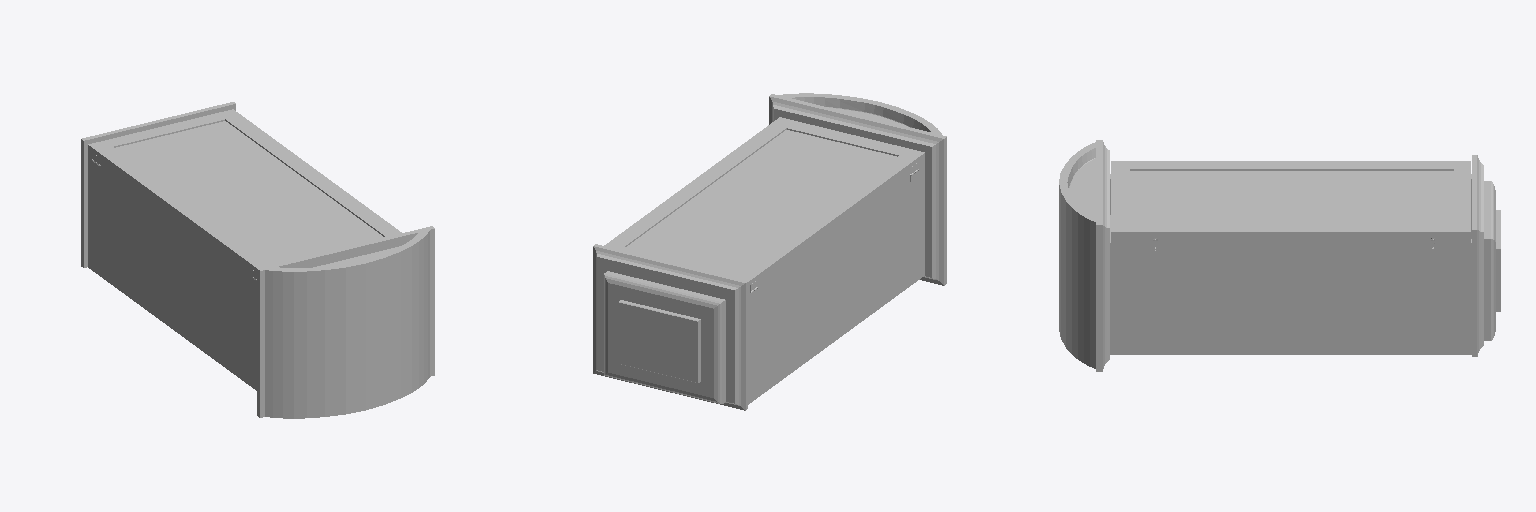
The model's file is orologio-horror.obj.
3 views of the same model, side by side, from view 1: azimuth 30°, elevation 25°; view 2: azimuth 150°, elevation 25°; view 3: azimuth 270°, elevation 25° (orthographic).
Visible parts, largest first — view 1: defaultMaterial9, defaultMaterial10, defaultMaterial5, defaultMaterial4, defaultMaterial6, defaultMaterial7; view 2: defaultMaterial10, defaultMaterial5, defaultMaterial8, defaultMaterial4, defaultMaterial7, defaultMaterial6, defaultMaterial9; view 3: defaultMaterial10, defaultMaterial5, defaultMaterial4, defaultMaterial9, defaultMaterial6, defaultMaterial8, defaultMaterial7.
Boxes of the visible parts, box(x1,y1,x2,y2) form: defaultMaterial9: box(265, 230, 429, 418); defaultMaterial10: box(88, 157, 256, 390); defaultMaterial5: box(116, 121, 384, 263); defaultMaterial4: box(88, 109, 401, 276); defaultMaterial6: box(257, 226, 434, 417); defaultMaterial7: box(81, 102, 235, 267); defaultMaterial10: box(748, 165, 924, 404); defaultMaterial5: box(627, 130, 896, 273); defaultMaterial8: box(604, 271, 725, 403); defaultMaterial4: box(604, 117, 924, 293); defaultMaterial7: box(593, 244, 747, 410); defaultMaterial6: box(769, 94, 946, 285); defaultMaterial9: box(779, 93, 941, 134); defaultMaterial10: box(1110, 174, 1471, 354); defaultMaterial5: box(1130, 171, 1453, 223); defaultMaterial4: box(1111, 161, 1470, 243); defaultMaterial9: box(1059, 142, 1095, 368); defaultMaterial6: box(1096, 140, 1109, 371); defaultMaterial8: box(1484, 181, 1500, 340); defaultMaterial7: box(1472, 155, 1483, 356).
Size of the model in its own units: 0.9136 by 0.7338 by 2.